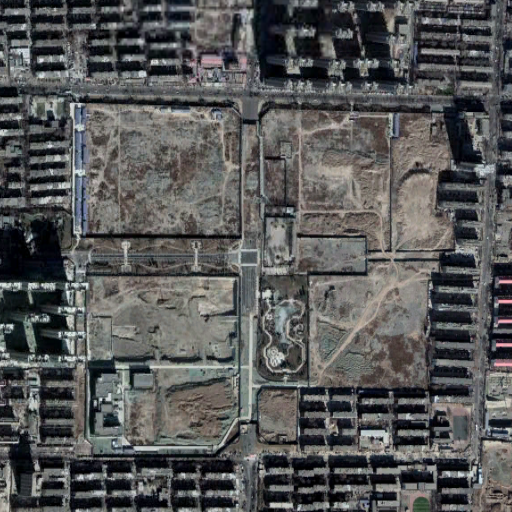cw: (68, 99, 457, 452)
